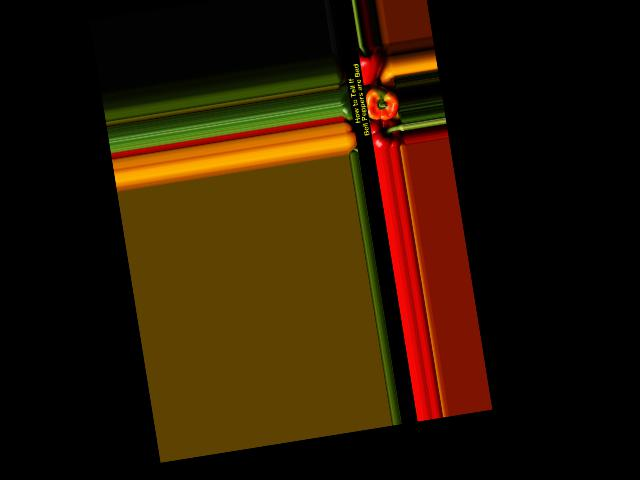bell_pepper: (367, 114, 405, 149)
